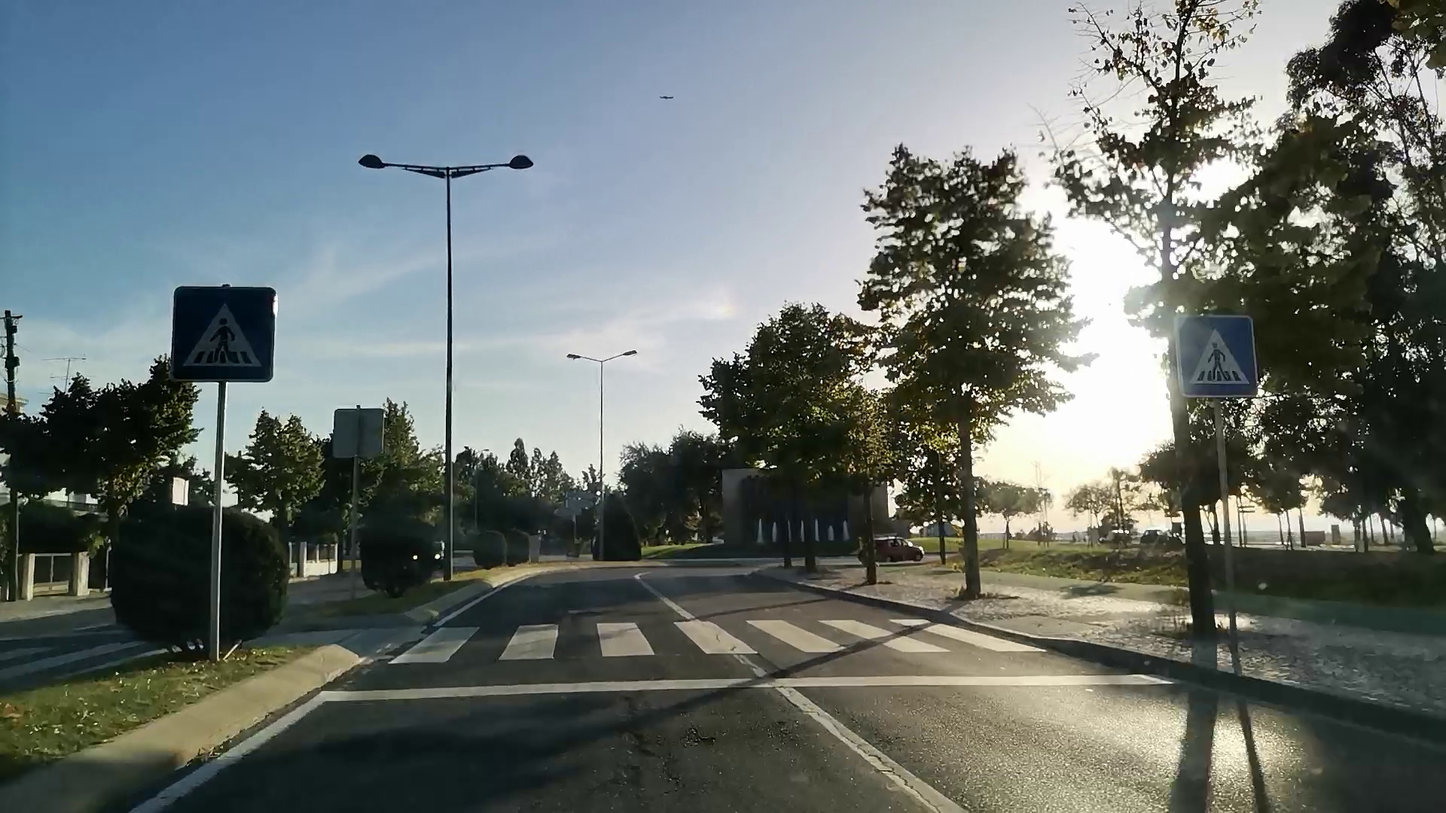Stairs: (400, 612, 1078, 714)
